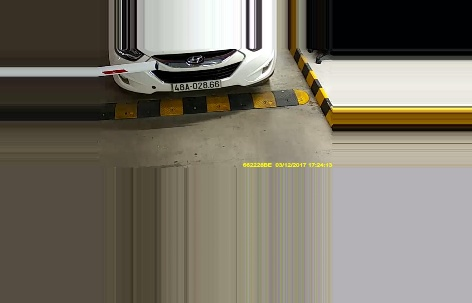plate: (170, 77, 220, 92)
